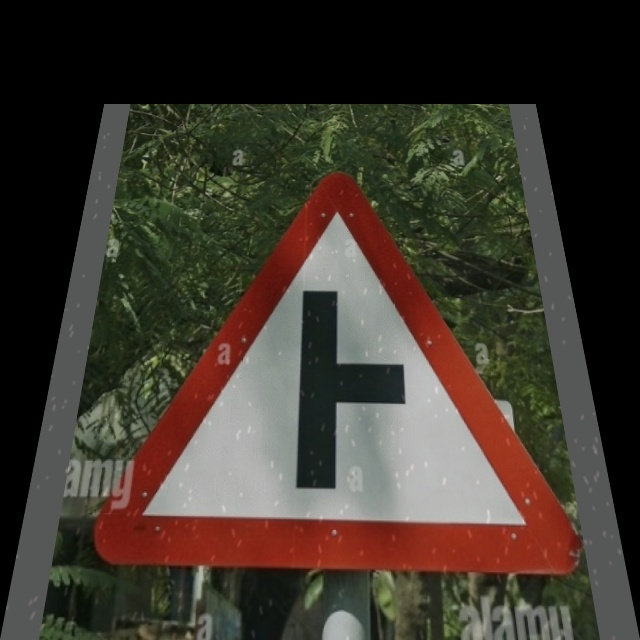Side_Road_Right: (113, 162, 567, 567)
